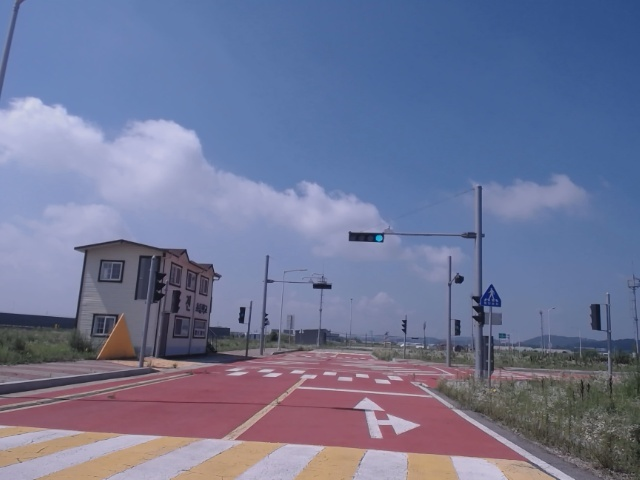straight_green_4: (349, 234, 385, 243)
